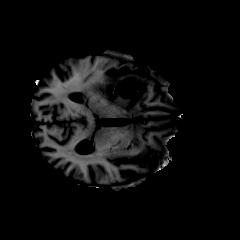glioma: (81, 64, 148, 108)
